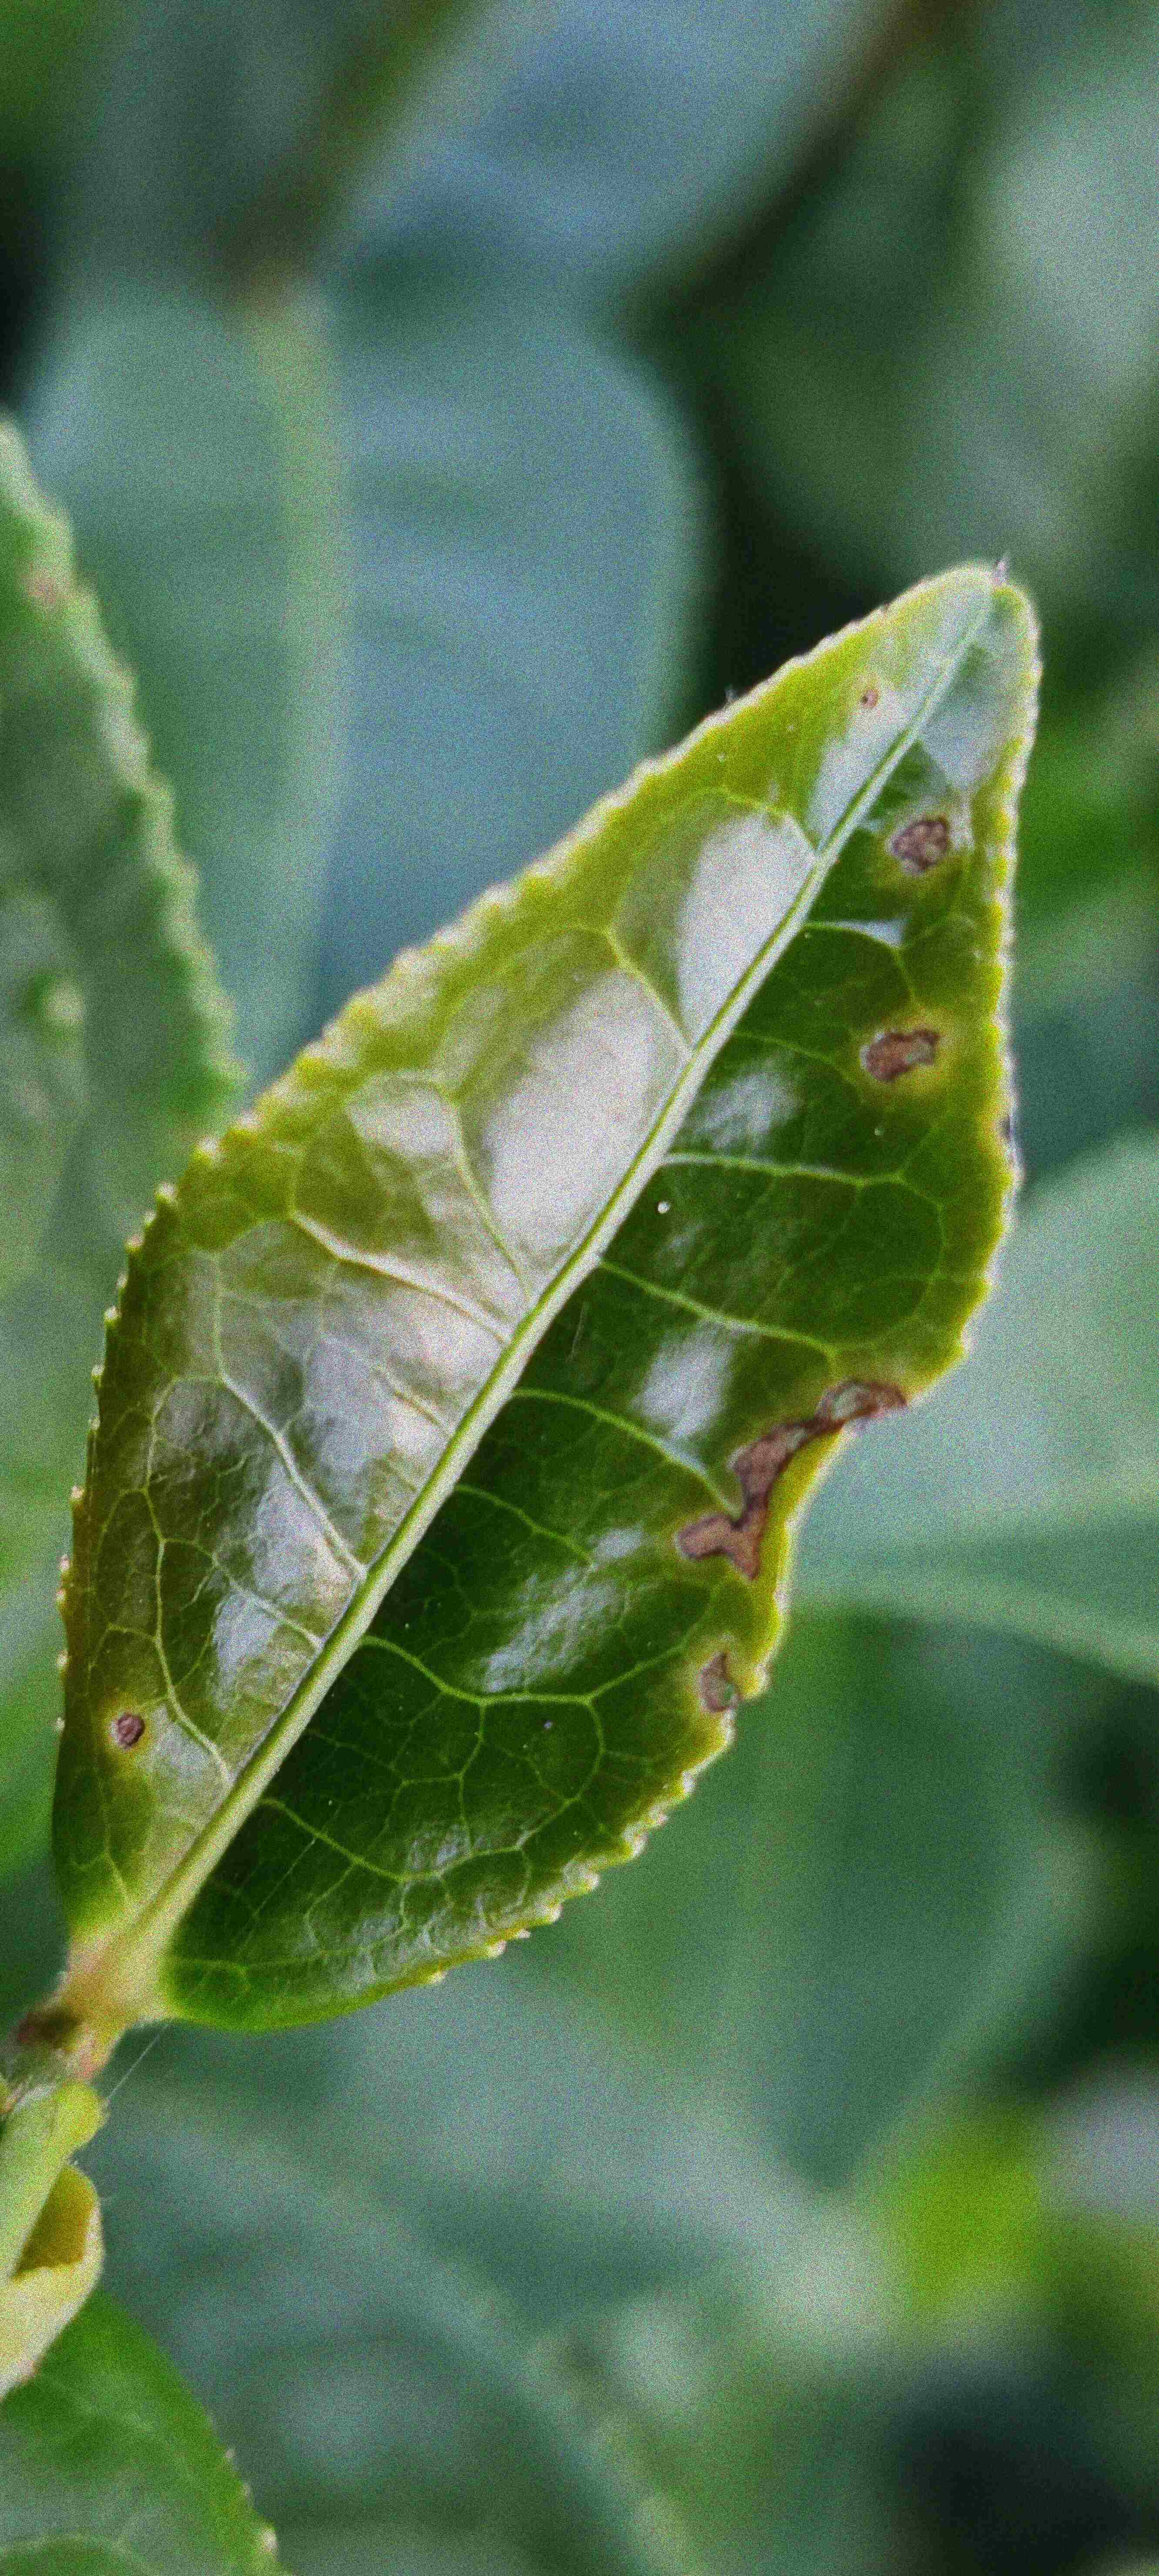tanju_high: (44, 565, 1044, 2031)
